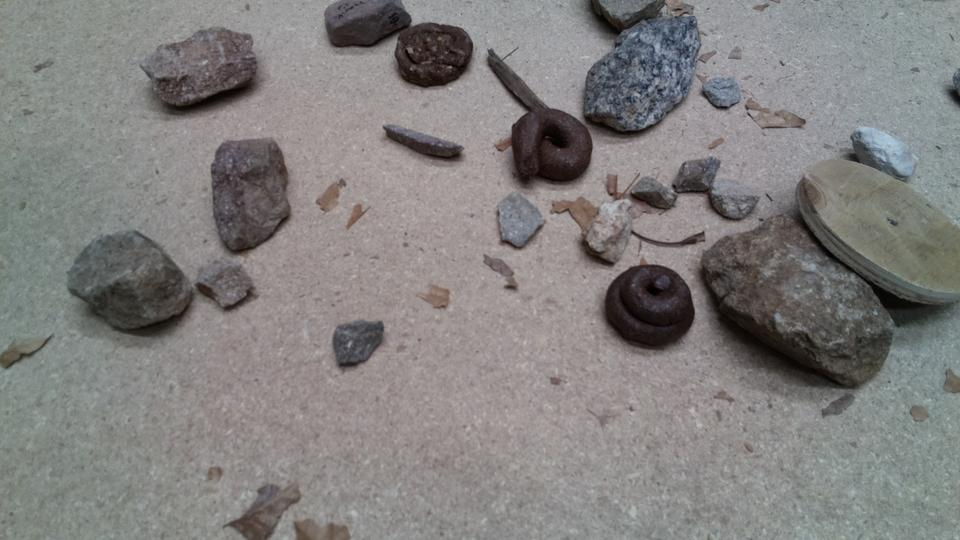poop: (602, 261, 697, 350), (509, 107, 594, 185), (391, 19, 477, 89)
